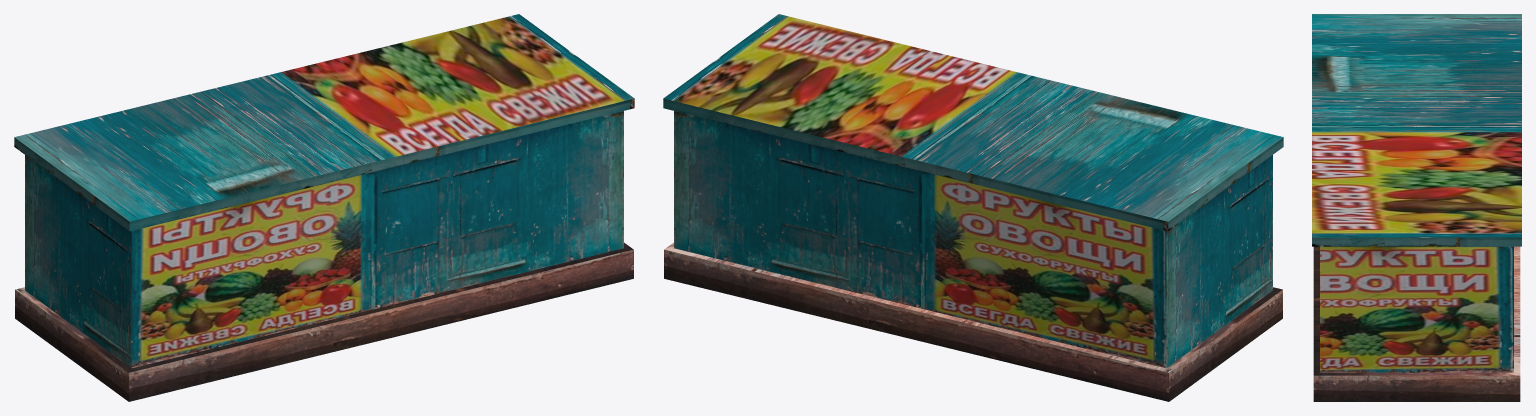
Rendered from r254_vhodnoy_budka.FBX.
3 views of the same model, side by side, from view 1: azimuth 30°, elevation 25°; view 2: azimuth 150°, elevation 25°; view 3: azimuth 270°, elevation 25° (orthographic). The views are drawn at different scales.
Parts seen in each view (by area): view 1: r254_vhodnoy_budka; view 2: r254_vhodnoy_budka; view 3: r254_vhodnoy_budka.
Part boxes in pixels (<box>): r254_vhodnoy_budka: <box>14,14,634,401</box>; r254_vhodnoy_budka: <box>663,14,1283,401</box>; r254_vhodnoy_budka: <box>1312,14,1521,401</box>.
Size of the model in its own units: 820 by 325 by 281.
